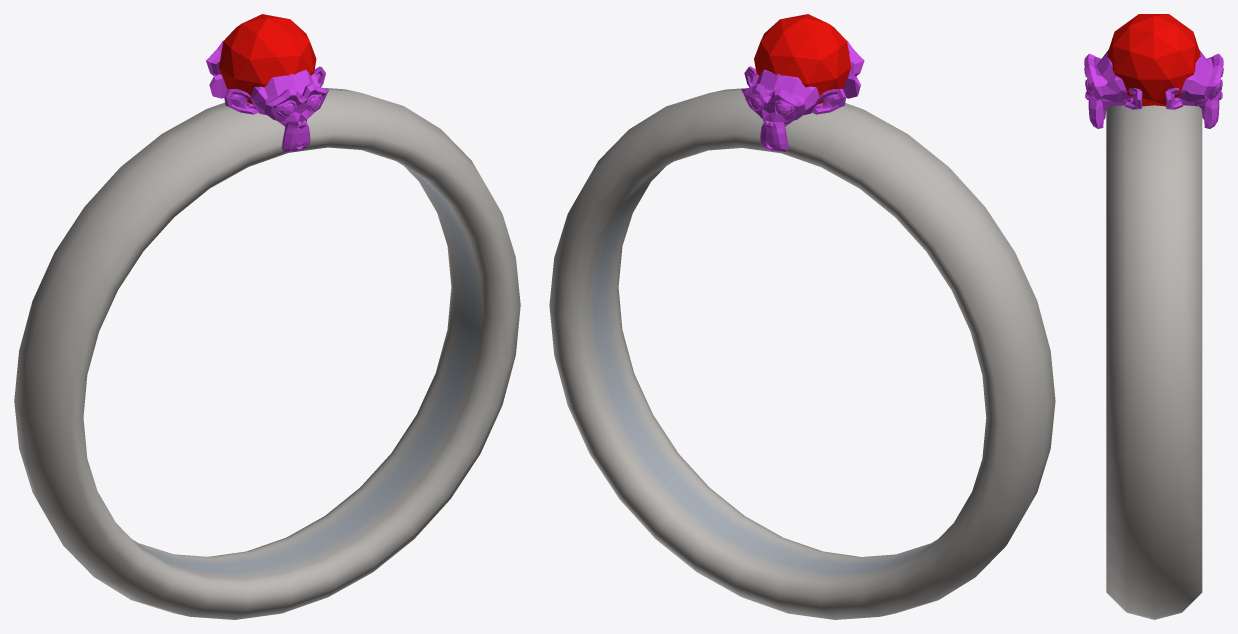
Rendered from ringDraco.gltf.
3 views of the same model, side by side, from view 1: azimuth 30°, elevation 25°; view 2: azimuth 150°, elevation 25°; view 3: azimuth 270°, elevation 25° (orthographic). The views are drawn at different scales.
Parts seen in each view (by area): view 1: ring_base, gem_red, gem_monkey; view 2: ring_base, gem_red, gem_monkey; view 3: ring_base, gem_red, gem_monkey.
Boxes of the visible parts, x1,y1,x2,y2 form: ring_base: (14,87,520,619); gem_red: (219,14,316,103); gem_monkey: (206,40,329,151); ring_base: (549,88,1055,619); gem_red: (754,14,851,103); gem_monkey: (741,40,864,151); ring_base: (1106,105,1202,619); gem_red: (1107,14,1200,106); gem_monkey: (1084,50,1223,128).
Bounding box in the file's own units: 40.99 × 47.24 × 10.32.
Materials: 4 (1 with a texture image).
